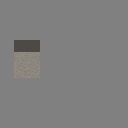supply_truck: (14, 40, 40, 78)
